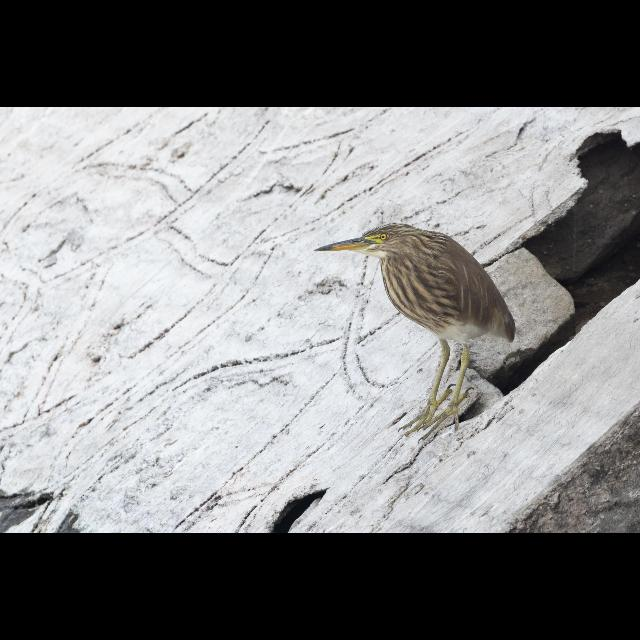heron: (312, 217, 520, 438)
